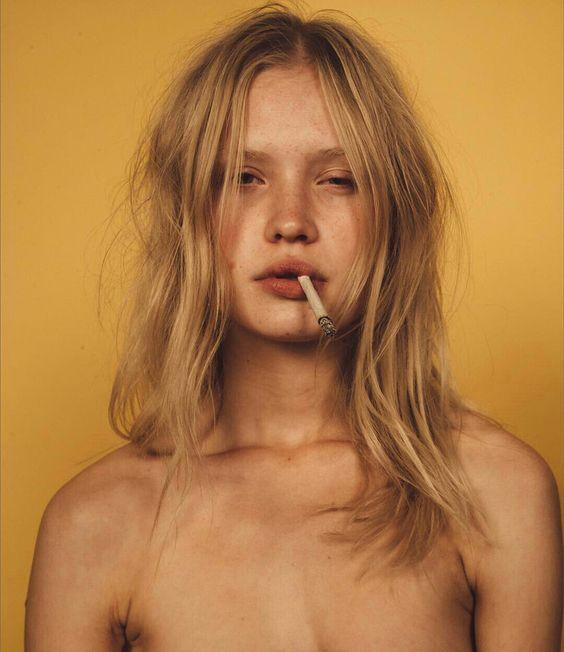cigarette: (297, 275, 338, 336)
